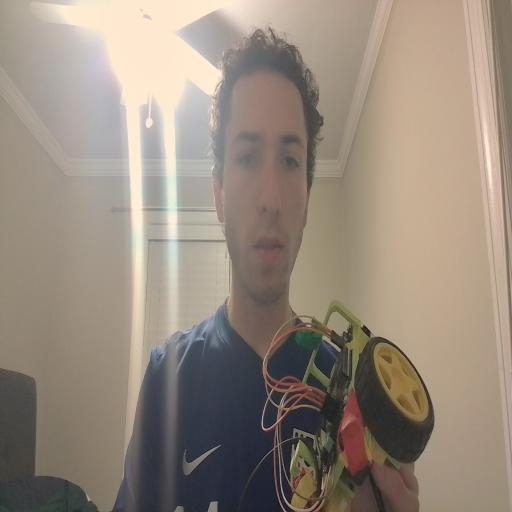green LEGO minifig: (294, 315, 328, 353)
